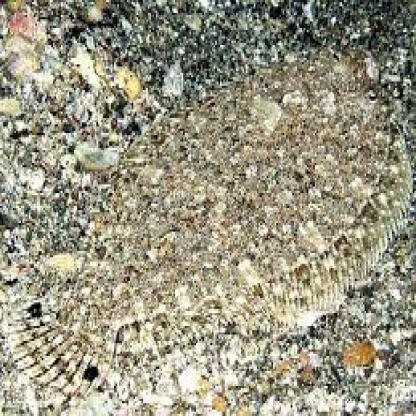flounder: (10, 48, 412, 402)
